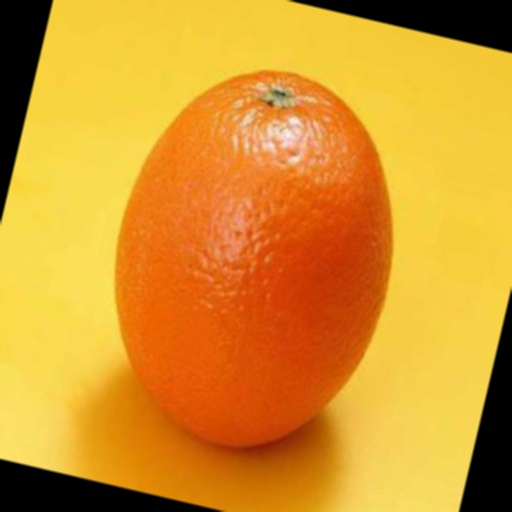fruit: (2, 98, 229, 492)
